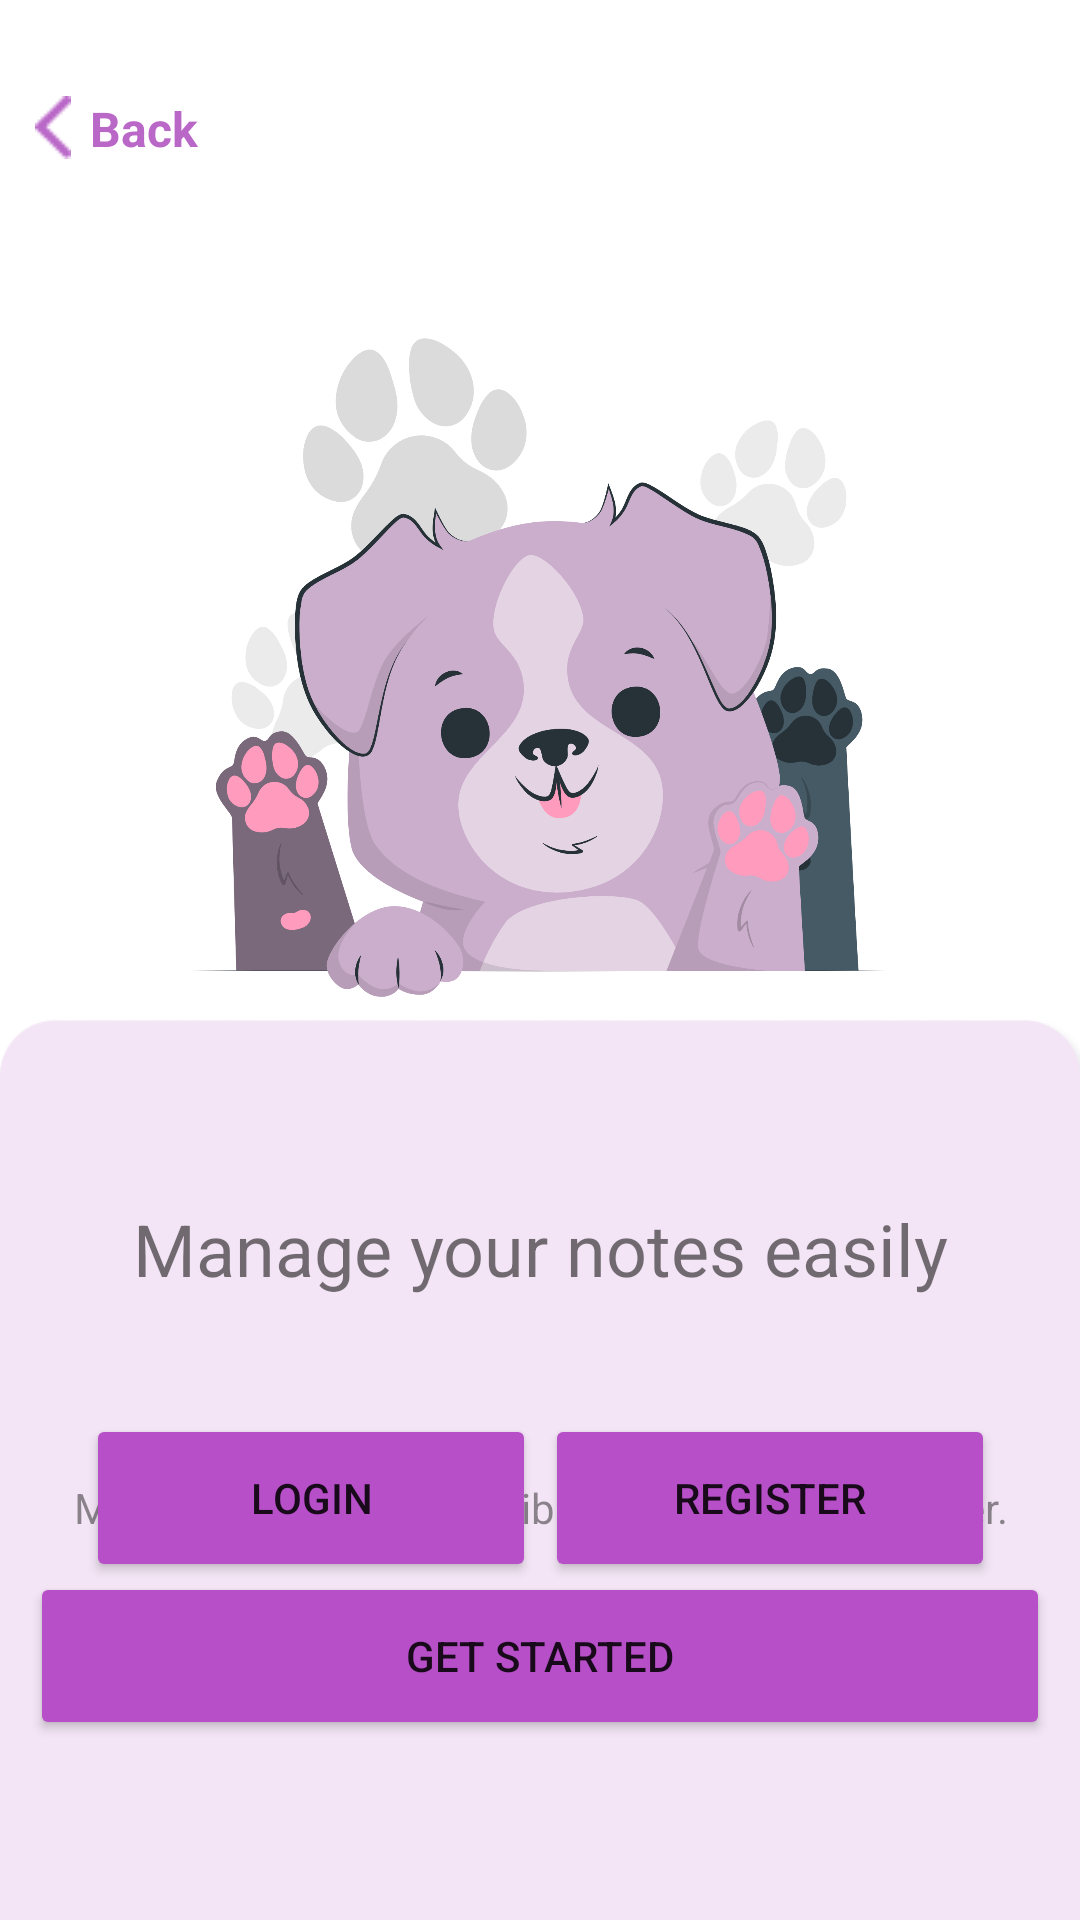

Screen size 1080px x 1920px. Icon name, then its center in pixels as (x=x, y=y):
arrow: (x=53, y=127)
